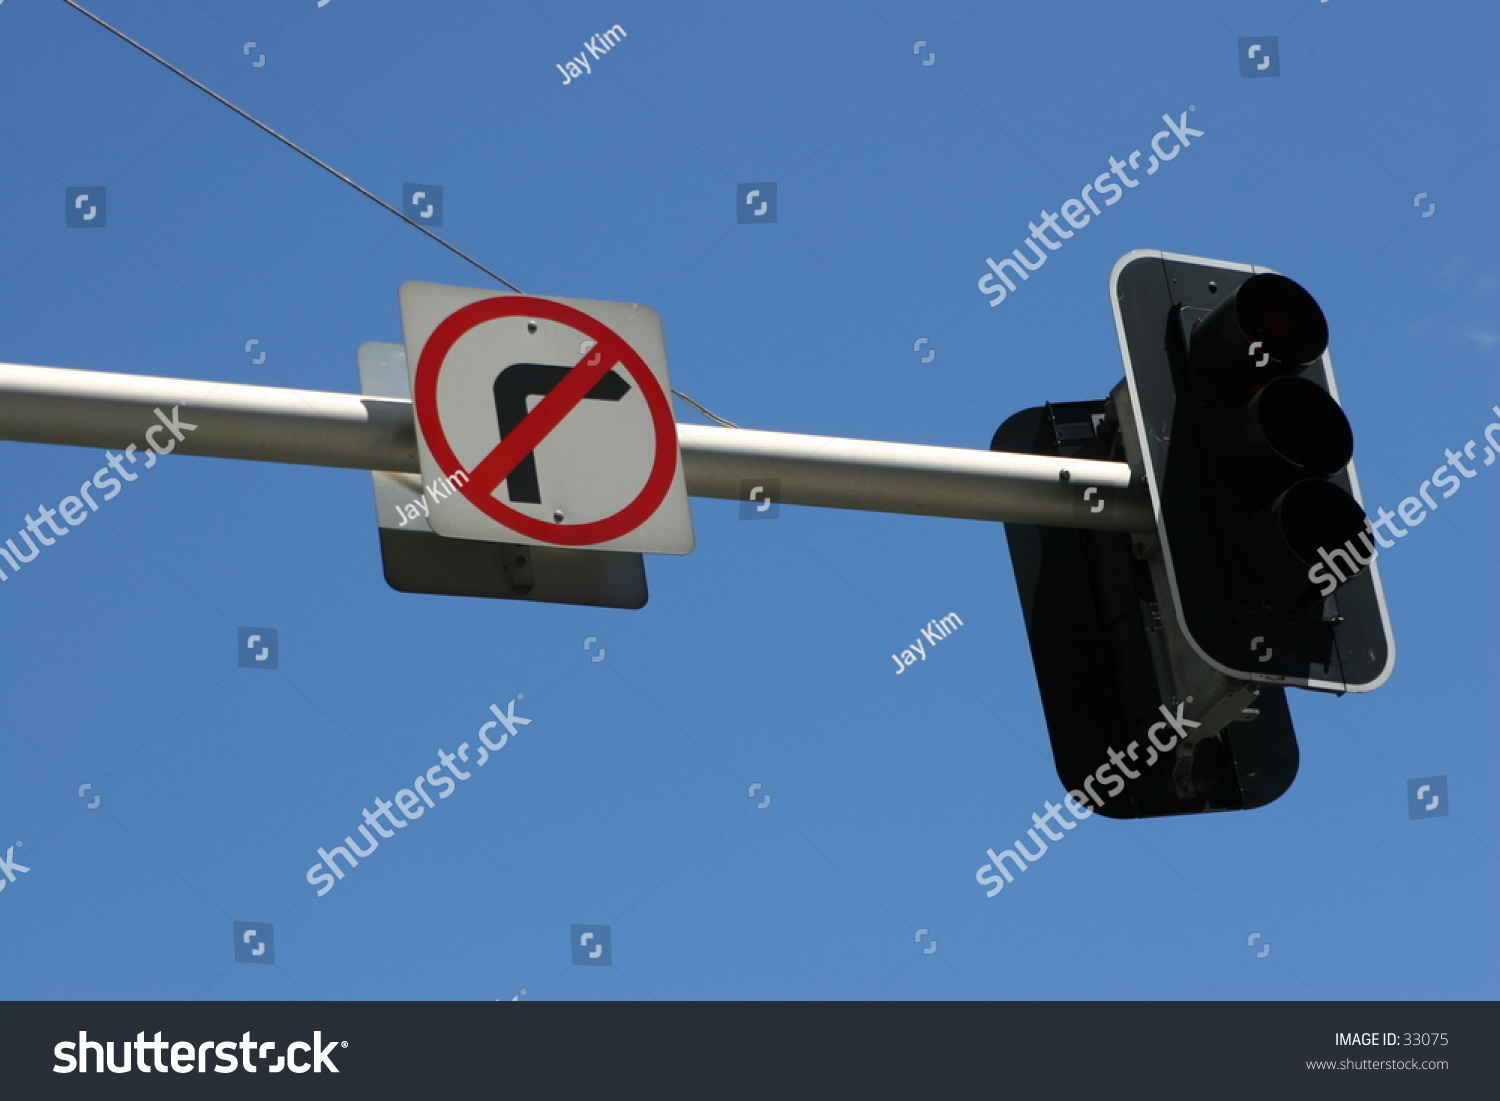No_right_turn: (412, 295, 680, 543)
